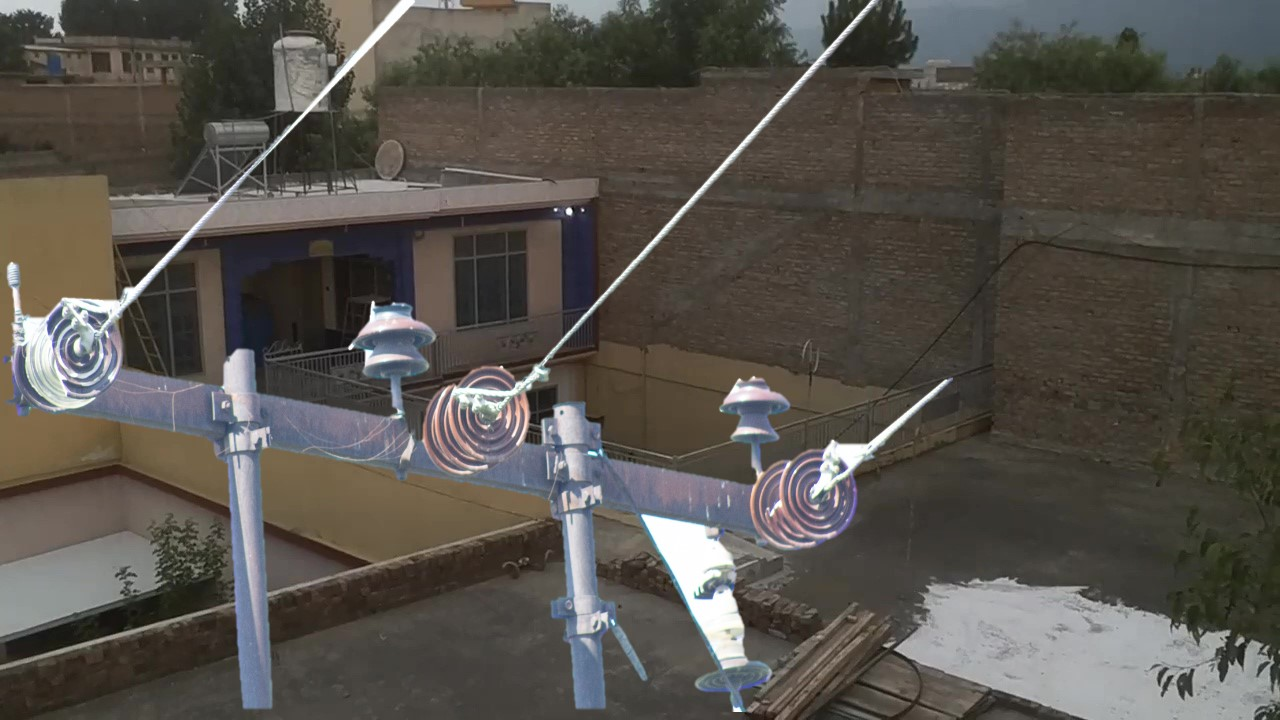defect_disc: (45, 290, 128, 406)
insulator_disc: (445, 358, 531, 459), (778, 442, 861, 543)
